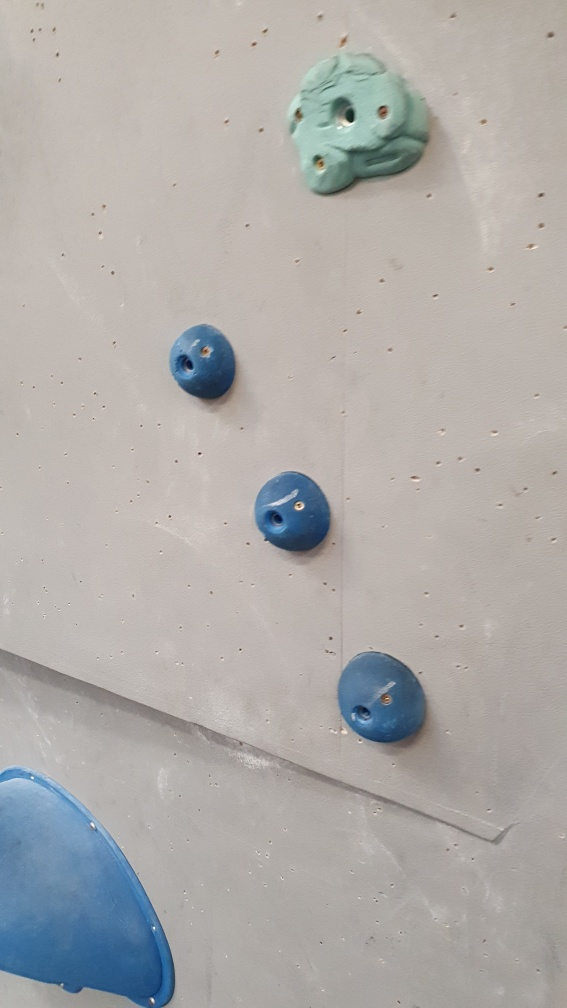Sloper: (336, 650, 431, 747), (248, 464, 334, 562), (164, 321, 242, 407)
